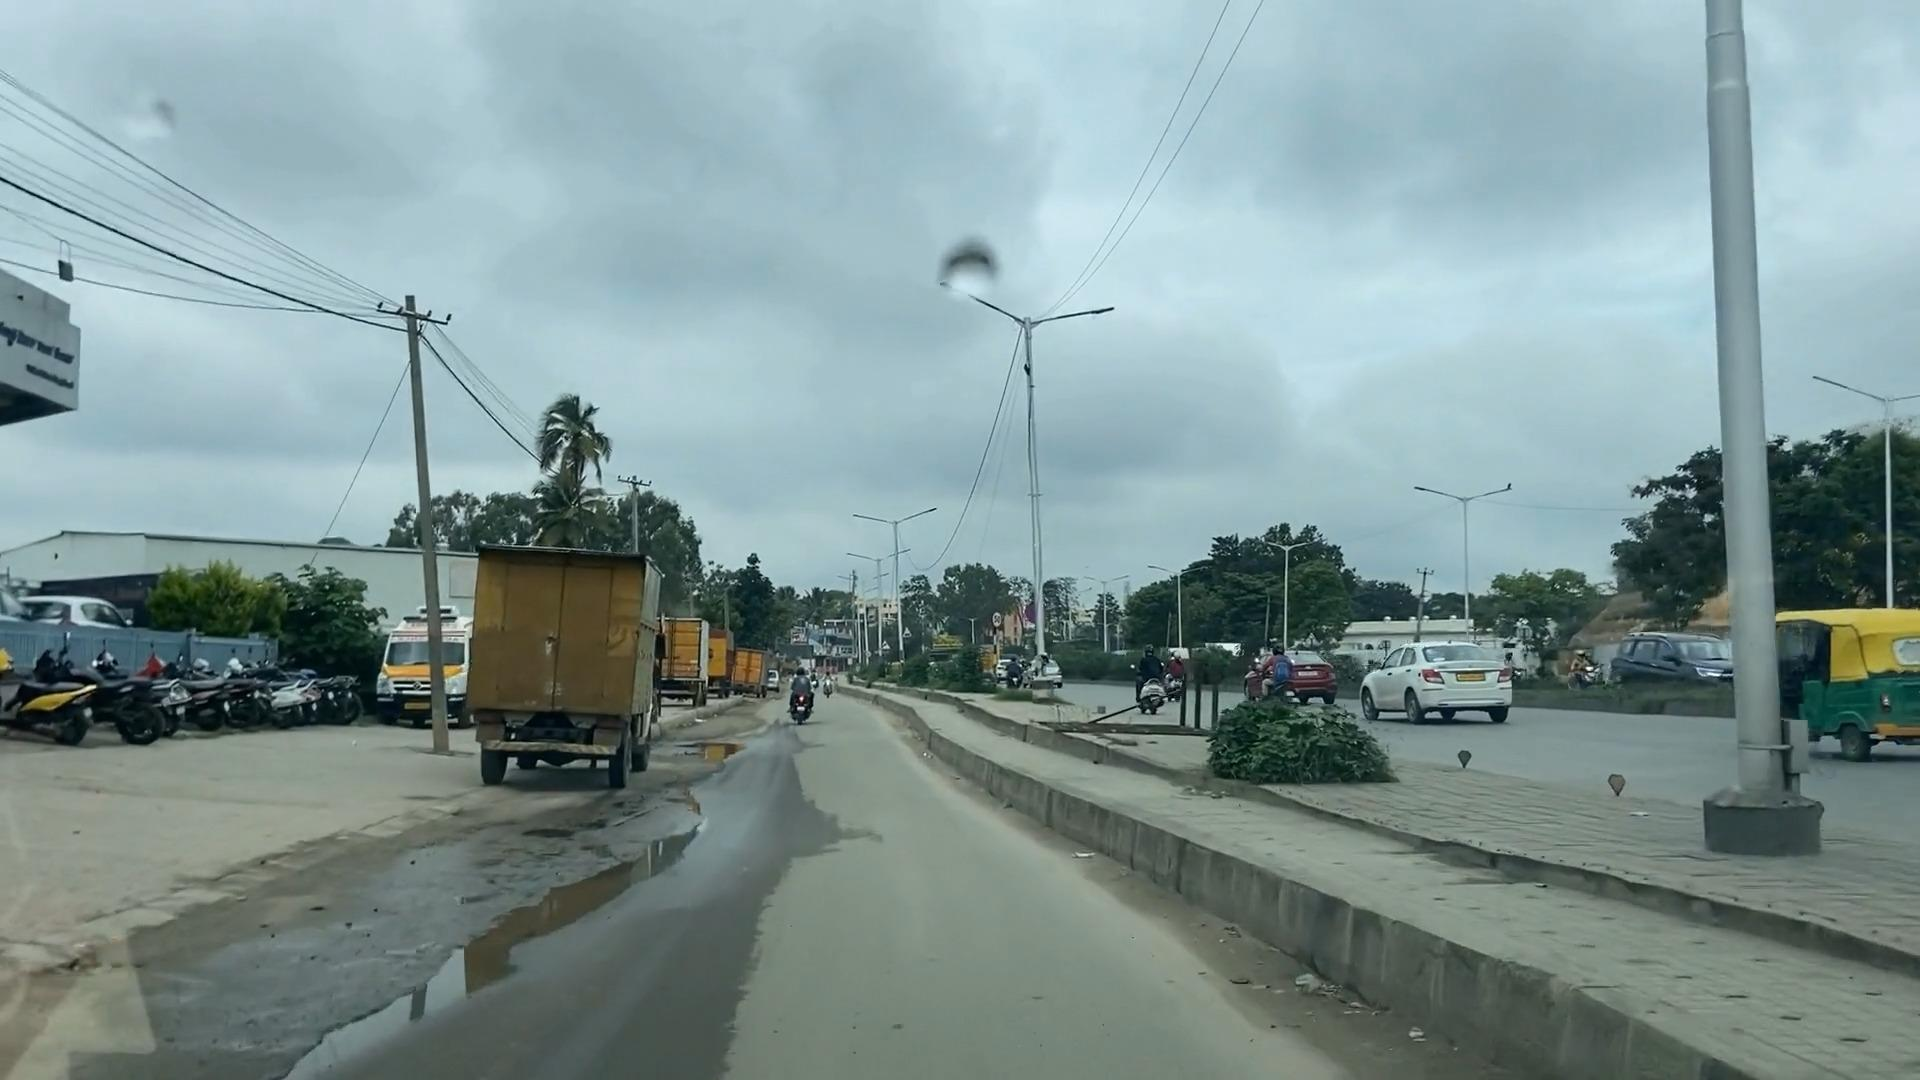HMV: (467, 547, 651, 787)
